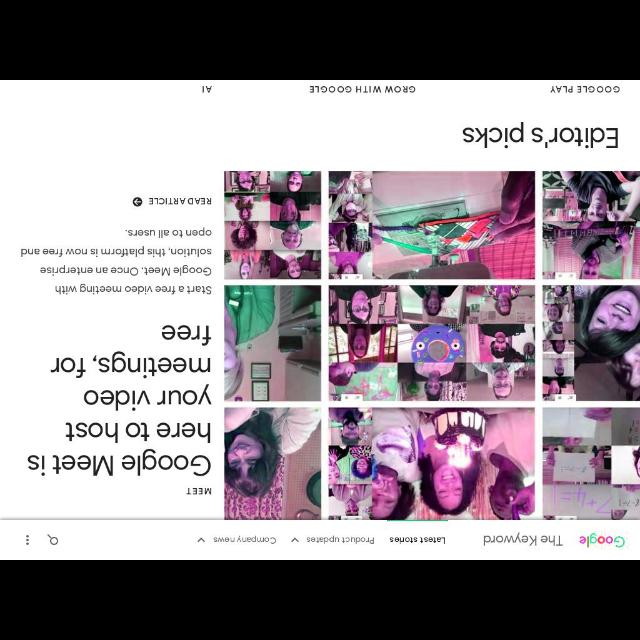icon: (49, 536, 60, 546), (134, 196, 142, 207), (24, 533, 30, 545), (195, 536, 205, 542), (290, 536, 300, 542)
image: (328, 284, 536, 402), (328, 410, 536, 520), (329, 171, 535, 279), (542, 407, 640, 519), (226, 286, 320, 402), (545, 286, 639, 400), (225, 170, 321, 280), (226, 408, 320, 520), (543, 172, 639, 280), (578, 534, 626, 548)
spinner: (286, 529, 376, 547), (195, 530, 277, 546)
text: (28, 320, 214, 476), (20, 218, 212, 296), (462, 122, 620, 148), (482, 534, 564, 548), (150, 194, 212, 206), (548, 83, 620, 93), (309, 86, 415, 92), (214, 534, 276, 544), (307, 536, 375, 544), (390, 536, 446, 544), (186, 484, 214, 498), (201, 84, 213, 92)
toolbar: (1, 518, 639, 560)
